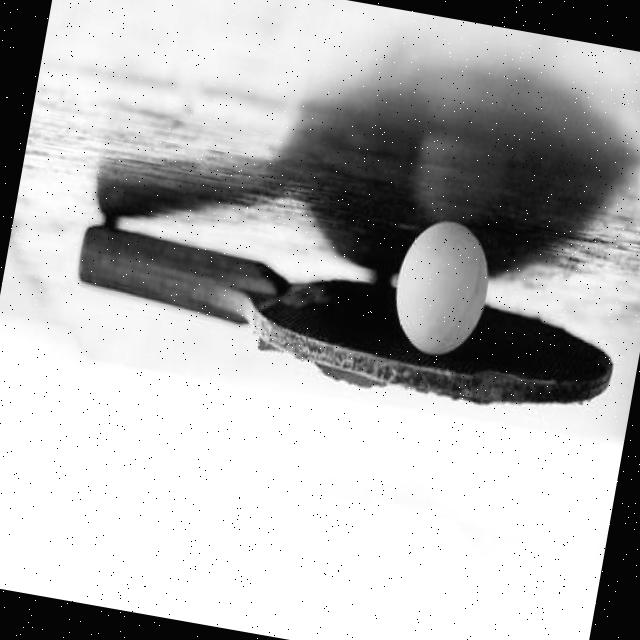ping-pong-ball: (382, 211, 498, 363)
